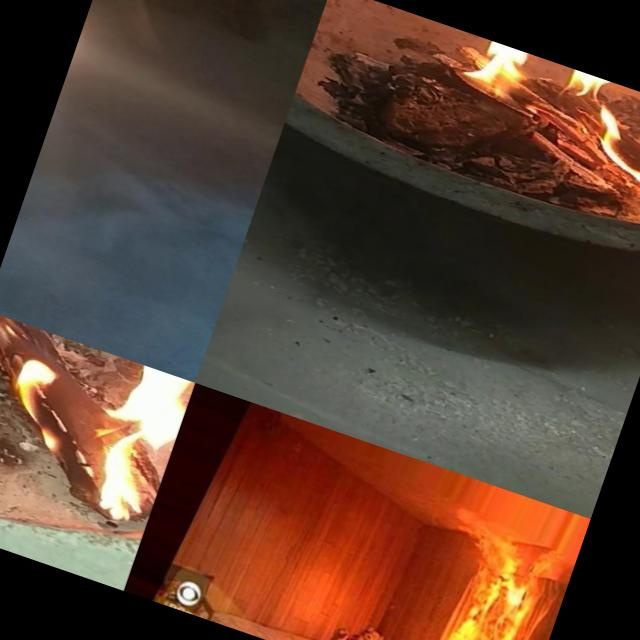fire: (0, 310, 195, 544), (534, 67, 640, 224), (42, 0, 124, 156), (426, 24, 552, 114), (437, 540, 549, 640)
